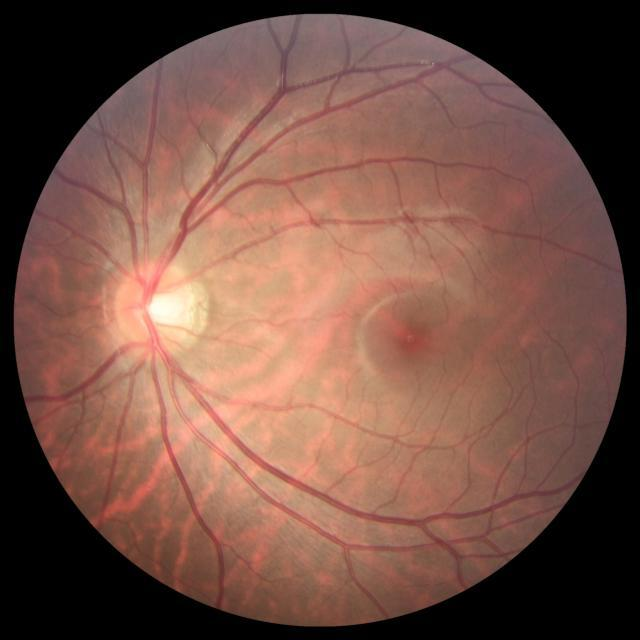OC: (140, 290, 181, 330)
OD: (113, 260, 196, 360)
